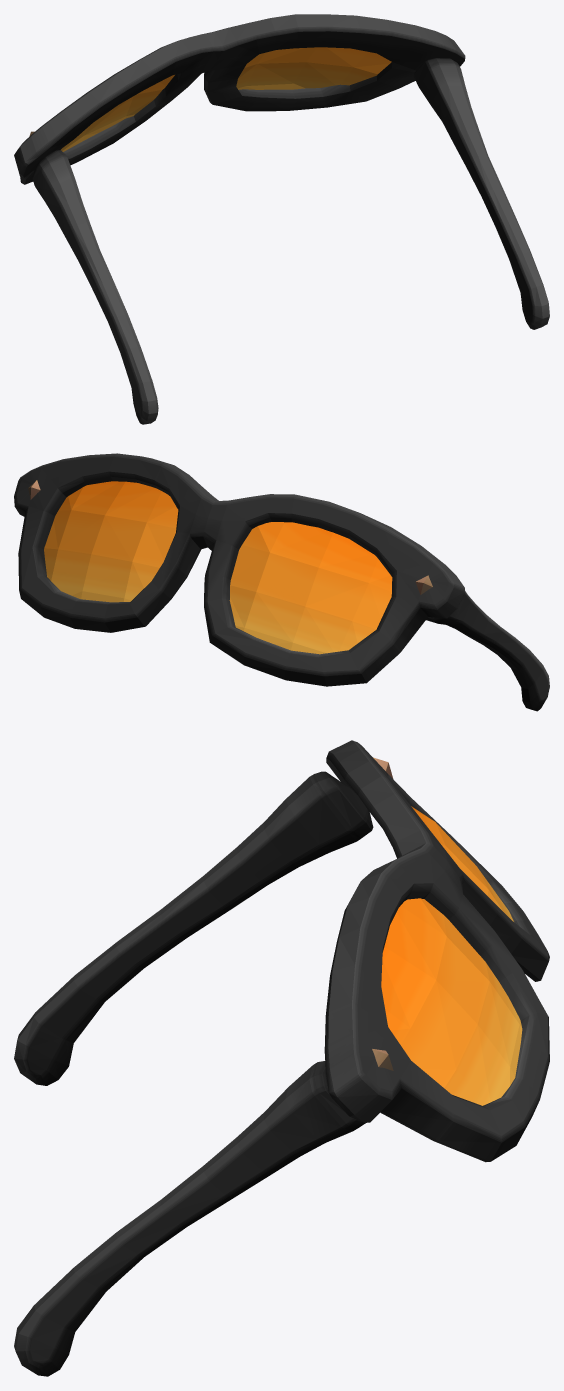
The model's file is CharSkyKid_Hat_SunlightSunglasses.glb.
3 views of the same model, one above another, from view 1: azimuth 30°, elevation 25°; view 2: azimuth 150°, elevation 25°; view 3: azimuth 270°, elevation 25° (orthographic). The views are drawn at different scales.
Parts seen in each view (by area): view 1: CharSkyKid_Hat_SunlightSunglasses; view 2: CharSkyKid_Hat_SunlightSunglasses; view 3: CharSkyKid_Hat_SunlightSunglasses.
Part boxes in pixels (left/top/right/bottom): CharSkyKid_Hat_SunlightSunglasses: left=14, top=14, right=549, bottom=424; CharSkyKid_Hat_SunlightSunglasses: left=14, top=453, right=549, bottom=711; CharSkyKid_Hat_SunlightSunglasses: left=14, top=740, right=549, bottom=1376.
Size of the model in its own units: 2.58 by 1.48 by 1.78.
1 material, 1 textured.
